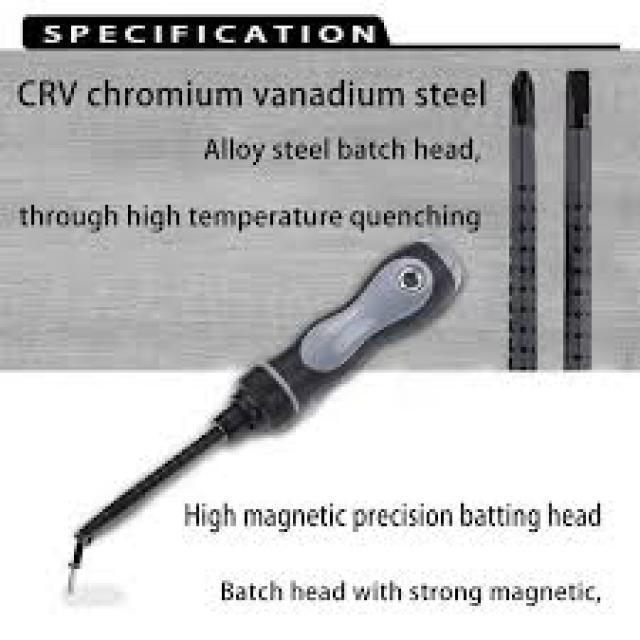screwdriver: (67, 230, 468, 549)
